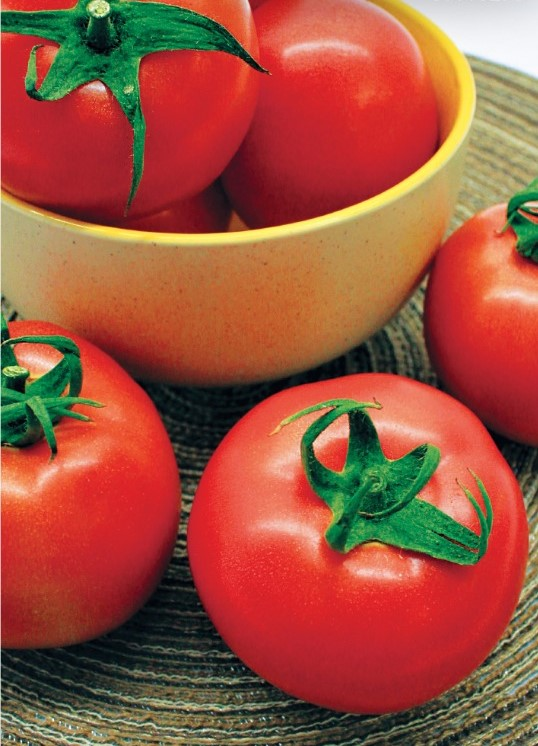tomato: (1, 1, 538, 717)
